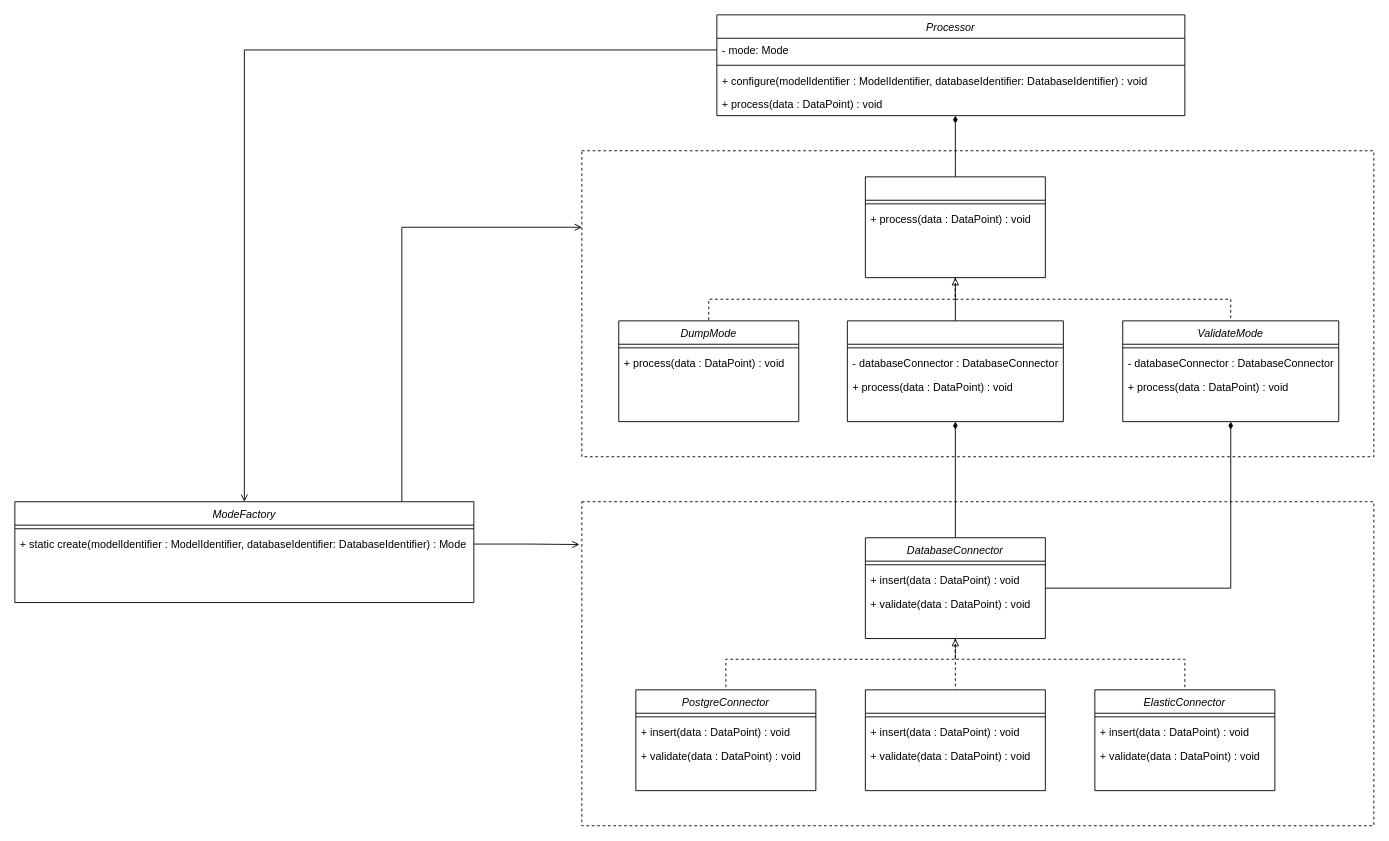
Image size: 1389x841. Some labels were removed from this diagram. Here are the shapes that lost their labels. From the top down, the box of each, then its label:
(864, 176, 1045, 278): Mode
(846, 320, 1063, 422): PassthroughMode
(864, 689, 1045, 791): RedisConnector
